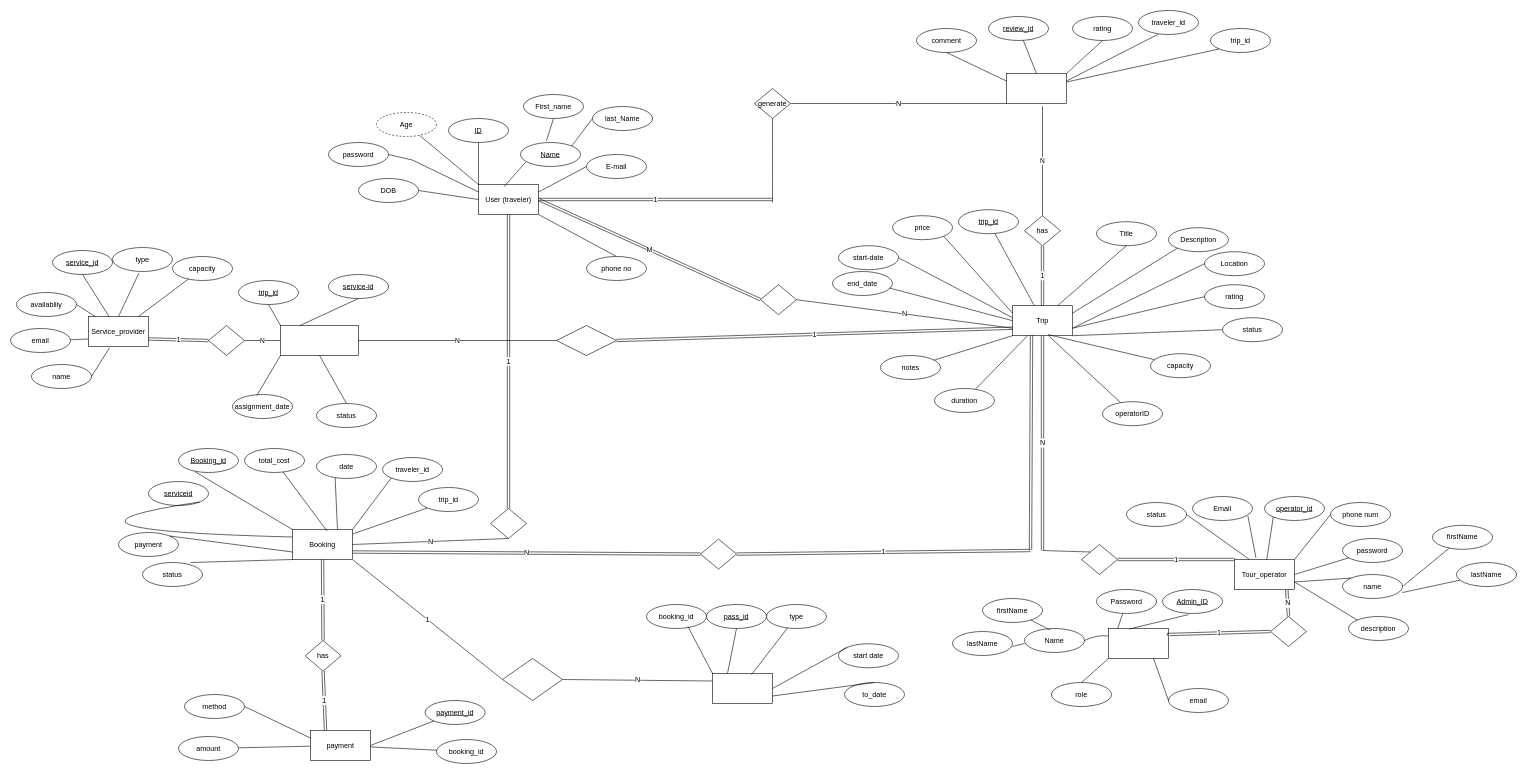
Some shapes in this 1527 by 774 pixel diagram are drawn without their labels. Here are the shapes that lost their labels. From the top down, the centre of each, then its label:
At point 1036,88: "review".
At point 778,299: "books".
At point 226,340: "provide".
At point 319,340: "Service_Assignment".
At point 586,340: "assigned_to".
At point 508,523: "did".
At point 718,553: "for".
At point 1099,559: "create".
At point 1138,643: "Admin".
At point 1288,631: "manages".
At point 532,679: "assigned".
At point 742,688: "digital_pass".
